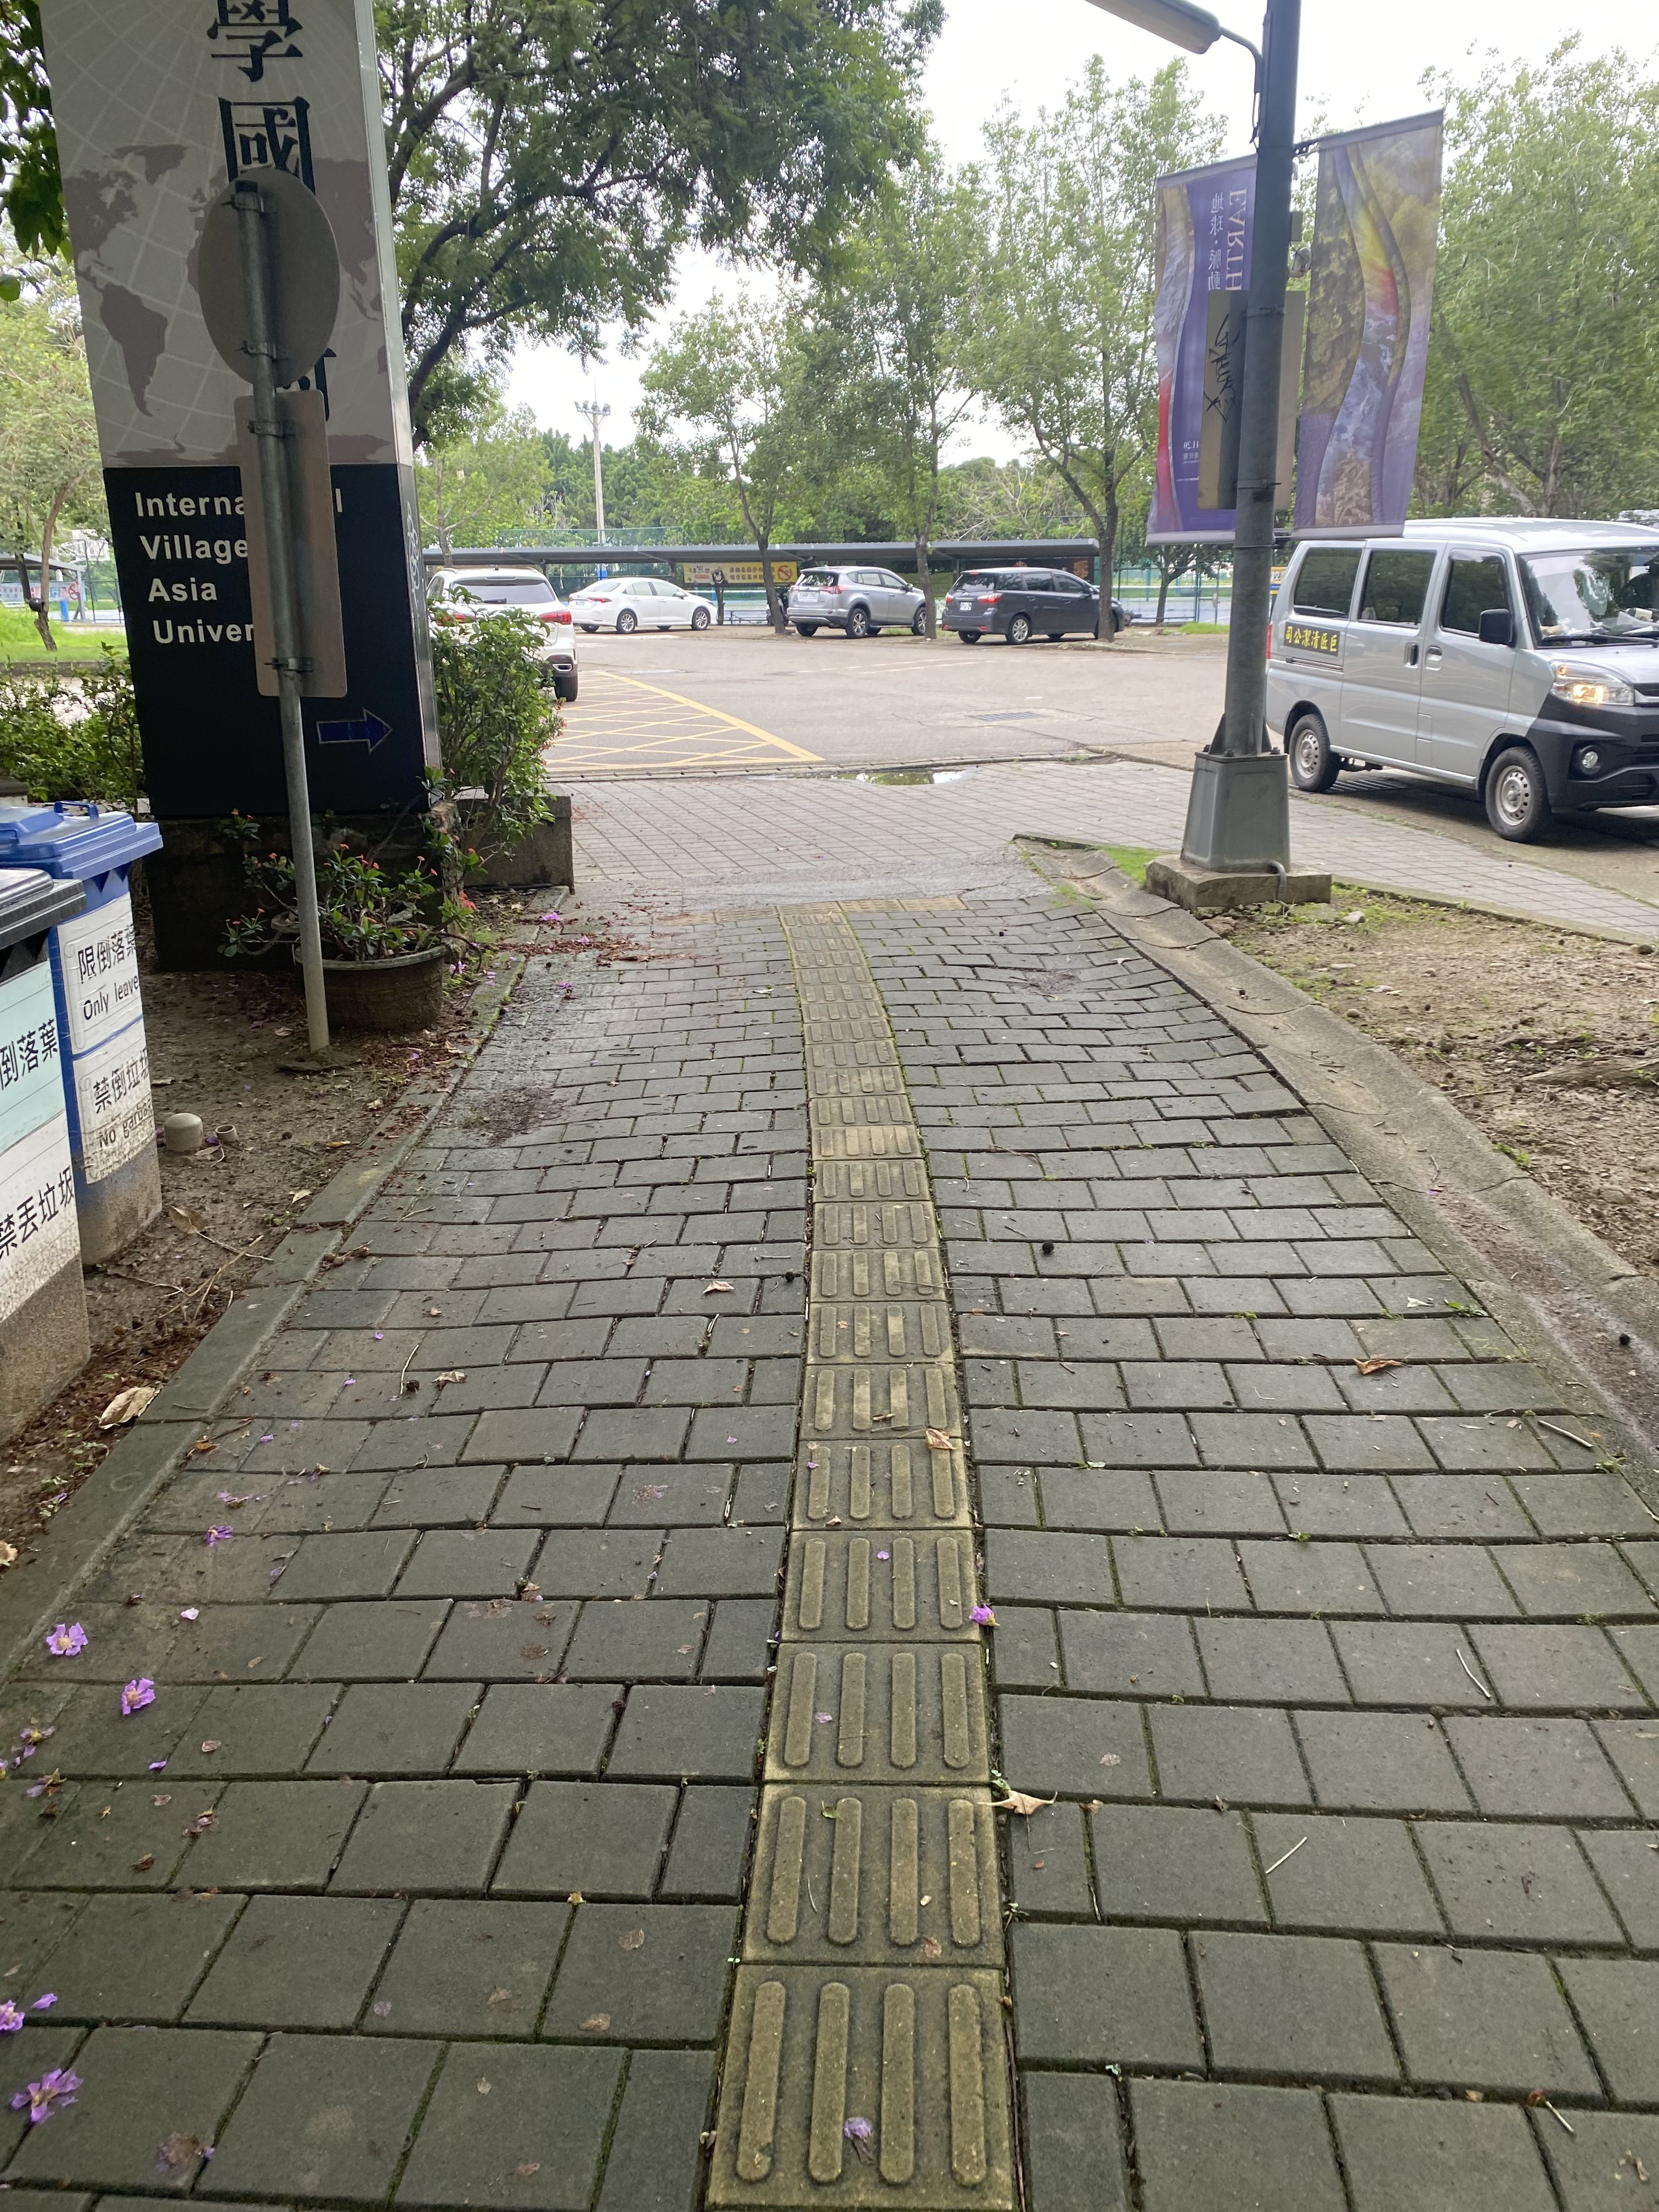sidewalk: (0, 744, 1659, 2212)
